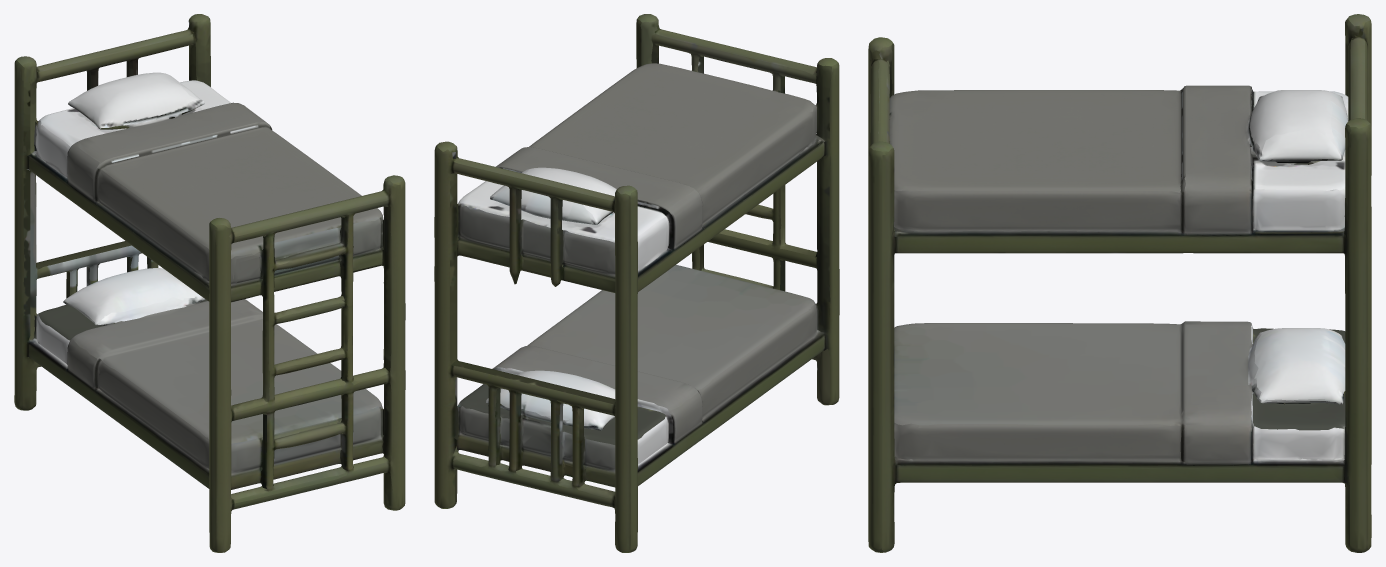
File: bunk_bed_tex.glb
3 renders of one model, left to right at view 1: azimuth 30°, elevation 25°; view 2: azimuth 150°, elevation 25°; view 3: azimuth 270°, elevation 25°, orthographic. The views are drawn at different scales.
Visible parts, largest first — view 1: tmpsgdpra2y.ply; view 2: tmpsgdpra2y.ply; view 3: tmpsgdpra2y.ply.
Part boxes in pixels (x1,y1,x2,y2): tmpsgdpra2y.ply: (14, 14, 405, 552); tmpsgdpra2y.ply: (434, 14, 839, 552); tmpsgdpra2y.ply: (868, 14, 1371, 552).
Size of the model in its own units: 0.5385 by 0.9299 by 0.9876.
1 material, 1 textured.
